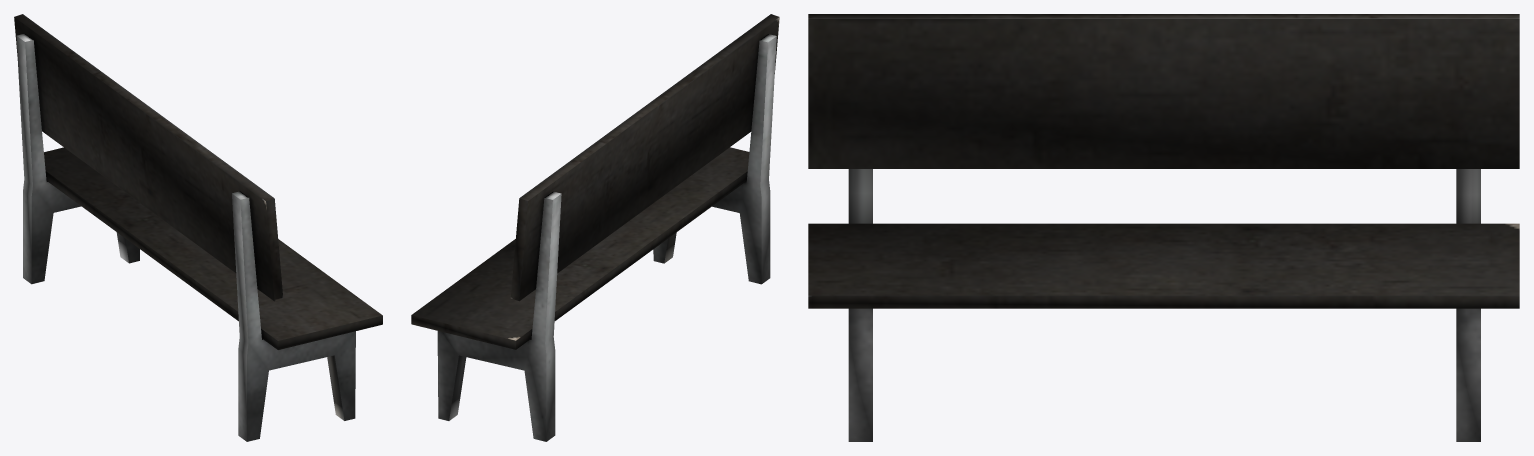
File: PFB-Street-Decor-Pack-02-Bench-New.fbx
3 views of the same model, side by side, from view 1: azimuth 30°, elevation 25°; view 2: azimuth 150°, elevation 25°; view 3: azimuth 270°, elevation 25° (orthographic). The views are drawn at different scales.
Visible parts, largest first — view 1: Bench-New; view 2: Bench-New; view 3: Bench-New.
Part boxes in pixels (x1,y1,x2,y2): Bench-New: [14, 14, 382, 441]; Bench-New: [411, 14, 779, 441]; Bench-New: [808, 14, 1519, 441].
Bounding box in the file's own units: 7.11 × 13.44 × 24.2.
